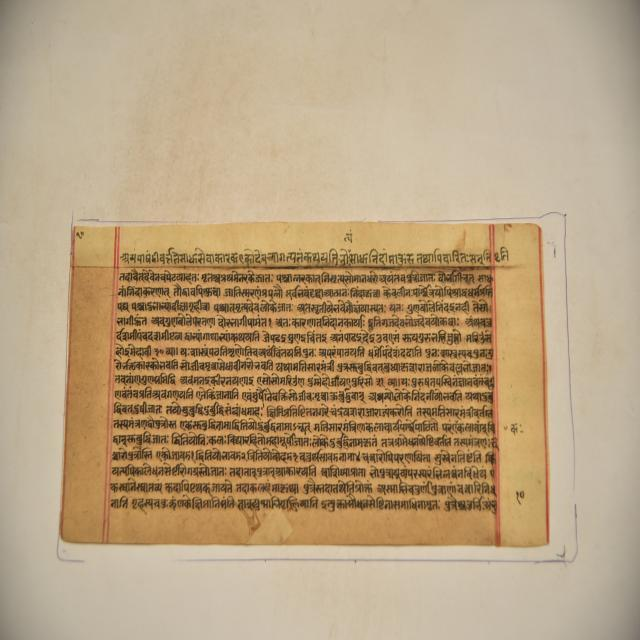text_paragraph: (60, 222, 547, 544)
